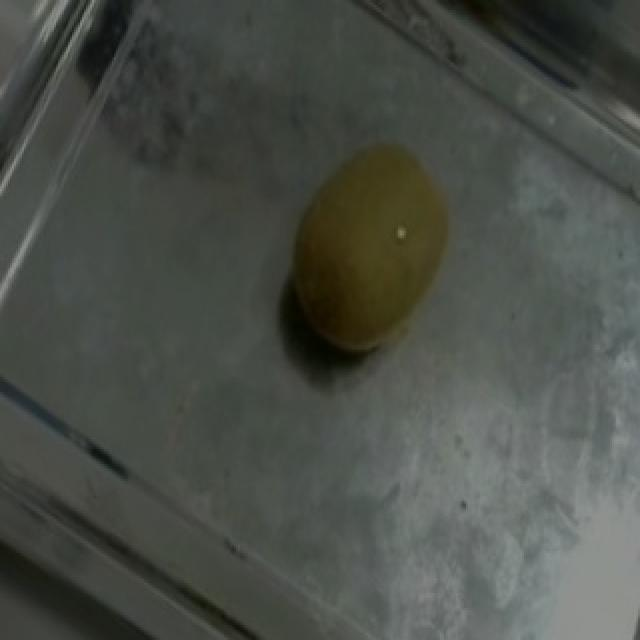Fruit: (244, 109, 494, 392)
